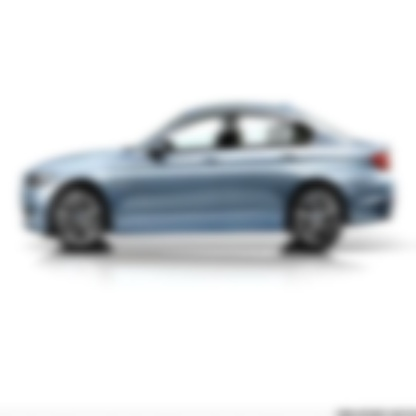Vehicle: (18, 98, 402, 254)
